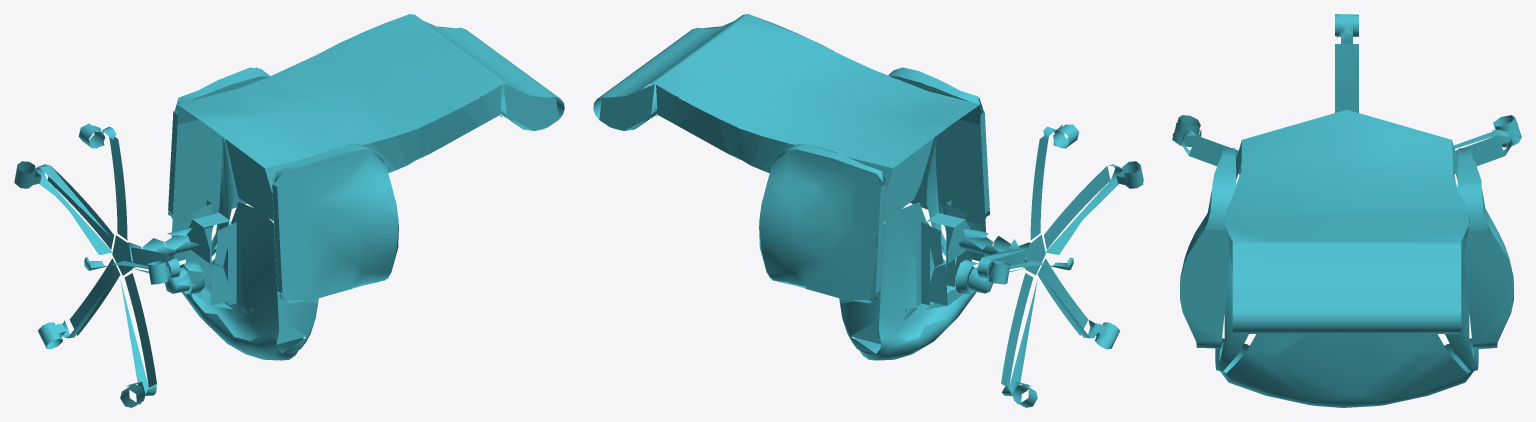
3 views of the same model, side by side, from view 1: azimuth 30°, elevation 25°; view 2: azimuth 150°, elevation 25°; view 3: azimuth 270°, elevation 25° (orthographic). The views are drawn at different scales.
Visible parts, largest first — view 1: Renderer Node; view 2: Renderer Node; view 3: Renderer Node.
Part boxes in pixels (left/top/right/bottom): Renderer Node: left=14, top=14, right=564, bottom=407; Renderer Node: left=593, top=14, right=1143, bottom=407; Renderer Node: left=1172, top=14, right=1521, bottom=407.
Size of the model in its own units: 0.777 by 0.4362 by 0.4505.
1 material, 1 textured.
